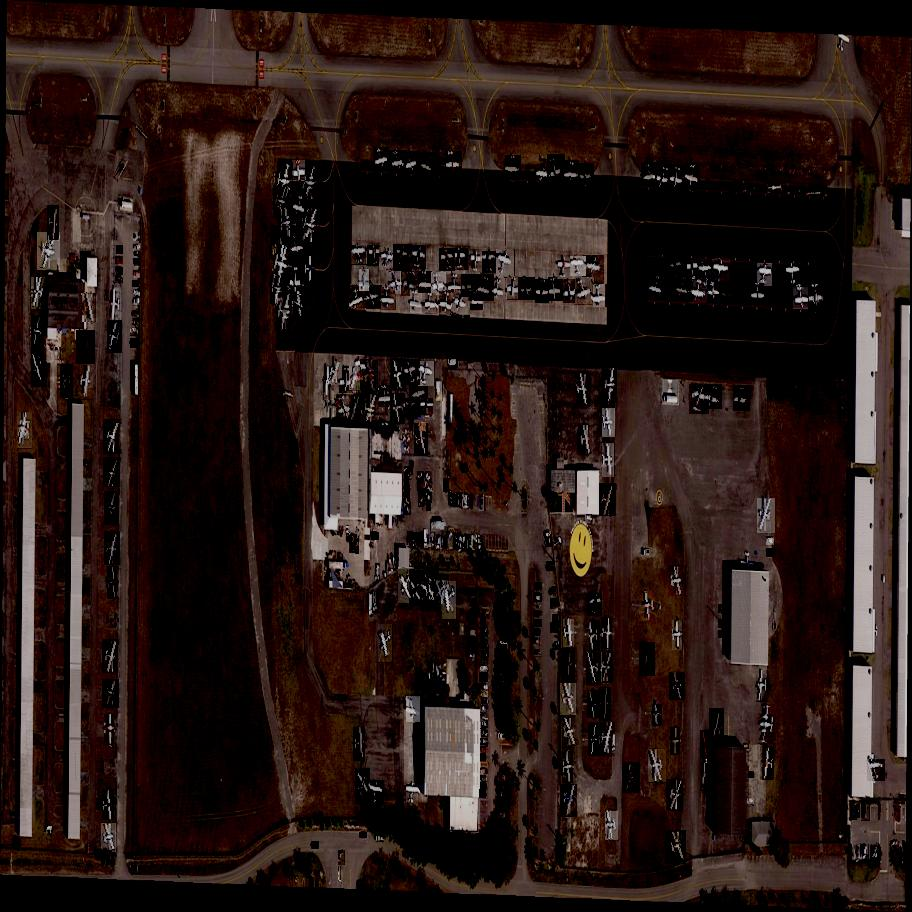large-vehicle: (431, 519, 446, 532), (447, 452, 452, 467), (449, 360, 457, 367)
plane: (403, 571, 431, 606), (272, 246, 295, 287), (37, 232, 61, 271), (393, 568, 419, 604), (350, 768, 376, 804), (29, 347, 50, 388), (299, 206, 321, 245), (275, 291, 295, 331), (274, 162, 295, 200), (420, 570, 439, 611), (707, 708, 726, 748), (759, 704, 777, 746), (301, 165, 322, 201), (666, 830, 688, 864), (376, 625, 396, 662), (270, 226, 291, 261), (432, 575, 452, 611), (582, 255, 605, 285), (441, 581, 459, 619), (103, 420, 123, 454), (76, 331, 96, 365), (560, 717, 580, 750), (495, 249, 517, 278), (597, 723, 615, 758), (689, 385, 710, 415), (586, 652, 604, 687), (574, 278, 596, 306), (561, 683, 579, 717), (668, 564, 686, 598), (757, 499, 775, 533), (273, 186, 291, 220), (17, 413, 34, 449), (361, 358, 378, 394), (600, 483, 618, 517), (649, 750, 667, 784), (335, 394, 356, 423), (666, 779, 685, 811), (361, 392, 380, 424), (102, 639, 119, 674), (576, 372, 592, 409), (103, 457, 122, 488), (533, 157, 554, 185), (646, 272, 667, 300), (104, 531, 121, 565), (414, 423, 431, 457), (560, 785, 578, 817), (547, 155, 566, 185), (674, 276, 695, 303), (417, 152, 438, 179), (107, 320, 124, 353), (390, 358, 407, 391), (653, 163, 673, 191), (451, 289, 471, 317), (640, 642, 656, 677), (104, 492, 120, 527), (623, 762, 641, 793), (711, 258, 732, 284), (393, 245, 414, 271), (278, 207, 294, 241), (474, 275, 494, 302), (403, 359, 423, 386), (446, 150, 463, 181), (102, 680, 120, 709), (668, 255, 688, 281), (703, 384, 723, 410), (363, 285, 383, 311), (409, 378, 429, 404), (386, 269, 405, 296), (401, 269, 420, 296), (867, 757, 886, 784), (599, 652, 615, 684), (31, 278, 47, 310), (291, 287, 306, 321), (669, 671, 685, 702), (561, 649, 576, 682), (78, 366, 93, 399), (588, 723, 603, 756), (46, 205, 60, 240), (641, 161, 659, 188), (684, 163, 702, 190), (102, 823, 118, 853), (82, 291, 97, 323), (391, 394, 407, 424), (577, 424, 592, 456), (640, 590, 655, 622), (603, 369, 617, 403), (761, 747, 775, 781), (718, 281, 737, 306), (690, 278, 709, 303), (289, 233, 308, 258), (698, 260, 716, 286), (367, 780, 385, 806), (350, 285, 366, 314), (61, 365, 75, 398), (402, 151, 421, 175), (402, 396, 421, 420), (563, 160, 581, 185), (350, 395, 365, 425), (506, 155, 523, 181), (670, 165, 687, 191), (734, 385, 751, 411), (418, 361, 435, 387), (603, 444, 616, 478), (602, 407, 616, 438), (31, 317, 45, 348), (389, 150, 407, 174), (409, 246, 427, 270), (291, 195, 308, 220), (374, 147, 391, 172), (438, 247, 455, 272), (338, 366, 353, 394), (587, 592, 603, 618), (327, 359, 343, 385), (102, 789, 115, 821), (380, 247, 398, 270), (756, 263, 773, 287), (794, 286, 811, 310), (271, 276, 285, 305), (606, 810, 619, 841), (519, 276, 535, 301), (439, 291, 455, 316), (490, 277, 506, 302), (110, 288, 122, 321), (353, 728, 365, 761), (700, 730, 713, 760), (809, 284, 824, 310), (431, 272, 447, 296), (756, 670, 768, 702), (571, 254, 587, 278), (587, 690, 600, 719), (447, 274, 462, 299), (349, 366, 364, 391), (563, 751, 574, 784), (324, 365, 335, 398), (107, 566, 118, 599), (557, 255, 572, 279), (580, 162, 595, 186), (418, 270, 433, 294), (355, 355, 370, 379), (564, 279, 578, 304), (535, 279, 549, 304), (672, 621, 684, 650), (483, 251, 498, 274), (787, 264, 802, 287), (600, 687, 610, 721), (351, 245, 367, 266), (563, 618, 574, 648), (407, 696, 420, 721), (381, 287, 395, 310), (462, 274, 475, 298), (602, 618, 612, 649), (292, 159, 306, 181), (378, 385, 392, 407), (104, 714, 114, 744), (549, 278, 562, 301), (291, 267, 302, 294), (590, 620, 599, 651), (594, 284, 606, 307), (411, 290, 423, 313), (471, 249, 483, 272), (454, 248, 467, 269), (671, 728, 681, 755), (359, 269, 371, 291), (470, 291, 483, 311), (507, 276, 518, 299), (407, 783, 418, 806), (686, 259, 698, 280), (752, 283, 764, 304), (368, 245, 380, 266), (702, 763, 711, 791), (652, 704, 662, 727), (421, 398, 434, 415), (425, 294, 436, 313), (306, 256, 314, 282), (708, 284, 719, 301)
small-vehicle: (370, 592, 380, 613), (423, 481, 435, 495), (401, 502, 413, 516), (401, 493, 412, 508), (861, 804, 870, 821), (854, 844, 862, 863), (349, 534, 357, 553), (424, 471, 434, 486), (337, 851, 347, 865), (402, 467, 412, 481), (496, 813, 507, 824), (424, 491, 434, 503), (437, 381, 443, 401), (480, 494, 487, 511), (454, 532, 461, 549), (457, 535, 464, 552), (460, 536, 468, 550), (873, 845, 881, 859), (436, 535, 443, 551), (410, 532, 417, 548), (550, 622, 560, 633), (546, 561, 556, 572), (54, 348, 63, 360), (355, 536, 361, 554), (863, 844, 869, 861), (375, 564, 381, 581), (130, 338, 140, 348), (534, 592, 543, 603), (498, 782, 507, 793), (417, 480, 426, 491), (403, 486, 411, 498), (424, 529, 429, 548), (464, 495, 471, 508), (480, 745, 489, 755), (480, 766, 489, 776), (499, 715, 508, 725), (498, 732, 507, 742), (480, 626, 489, 636), (533, 619, 542, 629), (870, 845, 876, 860), (718, 630, 727, 640), (414, 532, 420, 547), (549, 586, 557, 597), (465, 535, 470, 552), (66, 577, 71, 594), (425, 499, 432, 511), (443, 479, 449, 493), (480, 674, 489, 683), (533, 610, 542, 619), (311, 841, 320, 850), (499, 675, 507, 685), (468, 534, 473, 550), (765, 549, 775, 557), (550, 599, 558, 609), (408, 531, 413, 547), (428, 535, 434, 548), (404, 477, 410, 490), (853, 805, 858, 820), (500, 644, 508, 653), (481, 634, 489, 643), (719, 605, 727, 614), (719, 620, 727, 629), (498, 799, 507, 807), (116, 246, 125, 254), (478, 536, 483, 550), (856, 804, 861, 818), (421, 532, 426, 546), (431, 532, 435, 549), (554, 538, 560, 549), (455, 493, 460, 506), (480, 705, 488, 713), (482, 650, 490, 658), (481, 682, 489, 690), (729, 561, 737, 569), (534, 583, 542, 591), (498, 775, 506, 783), (133, 244, 141, 252), (376, 834, 384, 842), (451, 495, 456, 507), (470, 495, 474, 509), (533, 628, 540, 636), (767, 537, 774, 545), (641, 549, 649, 556), (585, 515, 592, 523), (499, 771, 507, 778), (132, 311, 139, 319), (116, 267, 123, 275), (116, 256, 123, 264), (371, 532, 378, 540), (347, 526, 351, 540), (410, 460, 414, 474), (134, 232, 140, 241), (417, 473, 423, 482), (612, 736, 615, 753), (552, 614, 557, 624), (481, 722, 488, 729), (481, 730, 488, 737), (480, 783, 487, 790), (500, 683, 507, 690), (481, 666, 488, 673), (419, 489, 425, 497), (534, 637, 539, 646), (480, 754, 486, 761), (480, 790, 486, 797), (481, 696, 487, 703), (482, 690, 488, 697), (544, 532, 551, 538), (460, 494, 463, 508), (134, 271, 140, 278), (133, 299, 140, 305), (418, 533, 421, 547), (481, 775, 486, 783), (481, 714, 486, 722), (419, 498, 424, 506), (449, 492, 452, 505), (892, 841, 898, 847), (481, 739, 487, 745), (499, 667, 505, 673), (481, 643, 487, 649), (748, 772, 754, 778), (748, 798, 754, 804), (130, 329, 136, 335), (442, 536, 445, 548), (498, 791, 503, 798), (554, 642, 559, 649), (546, 539, 551, 546), (133, 259, 140, 264), (360, 833, 367, 838), (535, 651, 541, 656), (481, 619, 486, 625), (482, 659, 487, 665), (116, 276, 121, 282), (501, 639, 505, 646), (860, 845, 862, 859), (134, 290, 138, 297), (133, 281, 138, 286), (370, 594, 371, 615), (134, 252, 139, 256), (47, 827, 52, 831), (132, 321, 136, 325), (472, 535, 473, 548), (339, 867, 340, 880)
